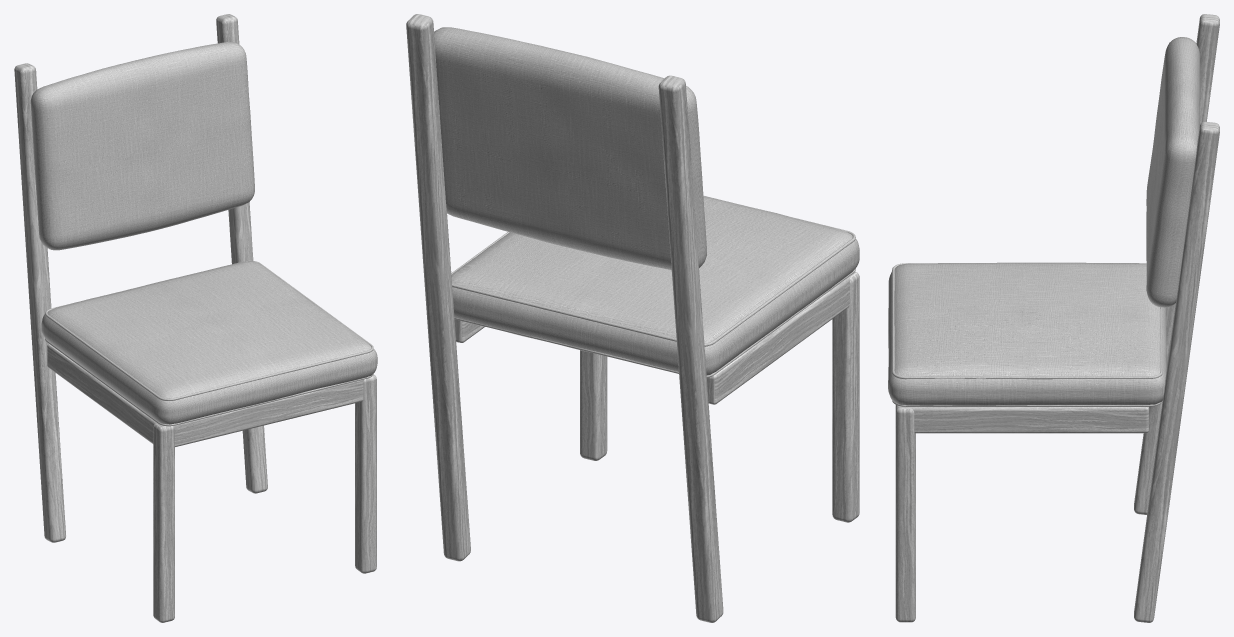
The model's file is office-chair.gltf.
3 views of the same model, side by side, from view 1: azimuth 30°, elevation 25°; view 2: azimuth 150°, elevation 25°; view 3: azimuth 270°, elevation 25° (orthographic). The views are drawn at different scales.
Parts seen in each view (by area): view 1: office-chair; view 2: office-chair; view 3: office-chair.
Boxes of the visible parts, x1,y1,x2,y2 form: office-chair: (14, 14, 377, 622); office-chair: (406, 14, 859, 622); office-chair: (888, 14, 1219, 622).
Bounding box in the file's own units: 0.4815 × 0.945 × 0.5727.
2 materials, 2 textured.
